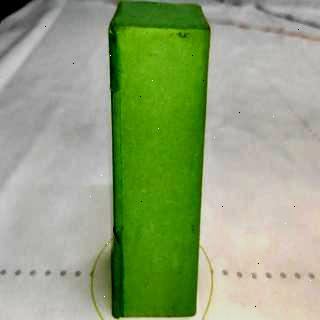greenbox: (108, 0, 210, 320)
